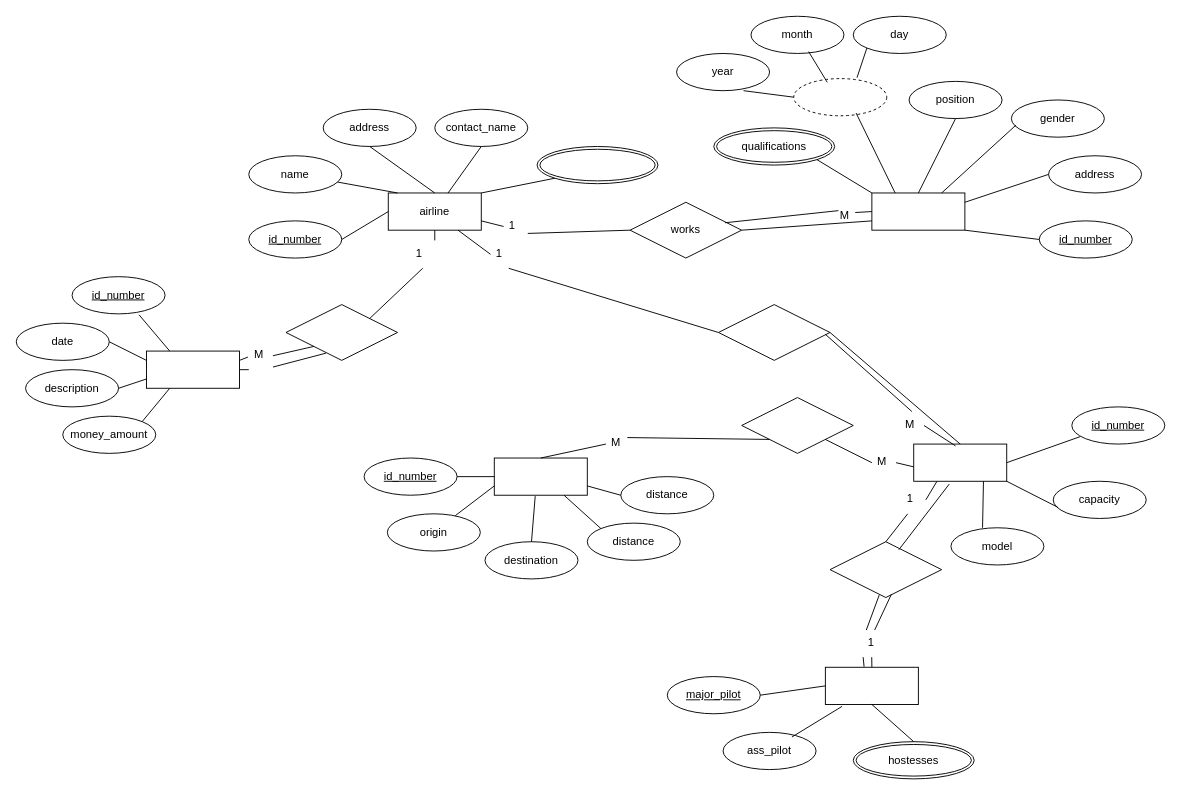
The diagram is 1181 pixels wide and 795 high, and some of its shapes have lost their labels. Here are the shapes that lost their labels. From the top down, the centre of each, then its label:
point (840, 97): date_of_birth
point (597, 165): contact_tel_nums
point (918, 211): employees
point (341, 332): make
point (773, 332): owns
point (192, 369): transactions
point (797, 425): has
point (540, 476): routes
point (960, 462): aircrafts
point (885, 569): assigned
point (871, 685): crews
